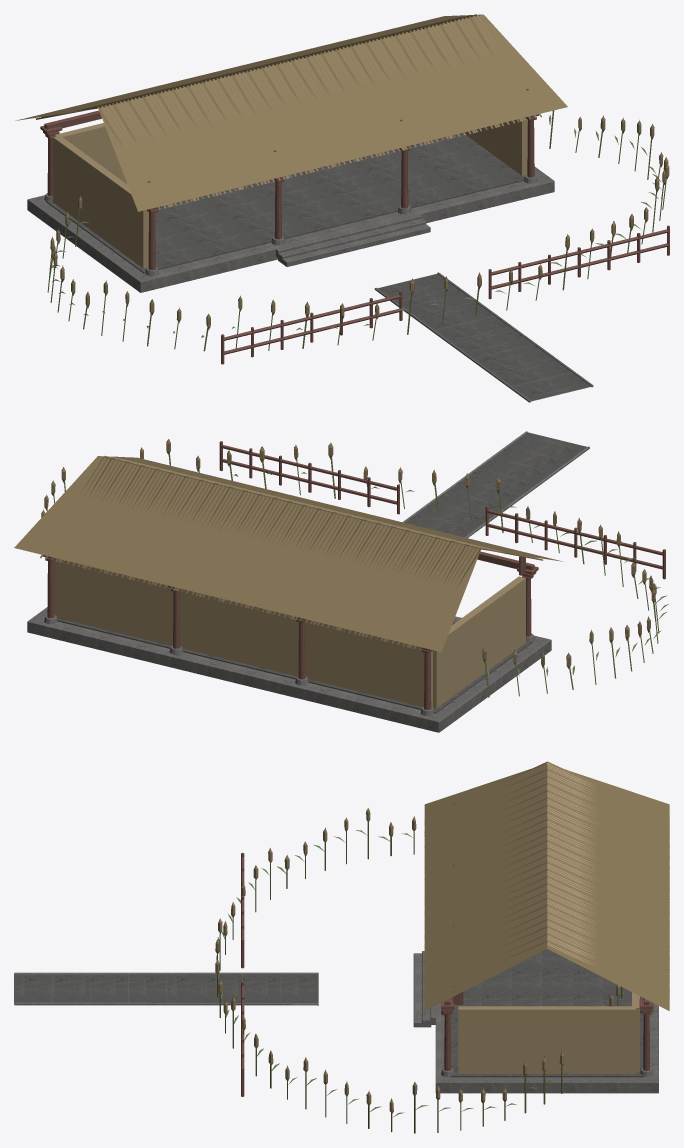
The model's file is reference-public_models_places_luxuean.glb.
3 renders of one model, top to bottom at view 1: azimuth 30°, elevation 25°; view 2: azimuth 150°, elevation 25°; view 3: azimuth 270°, elevation 25°, orthographic.
Parts seen in each view (by area): view 1: luxuean_thatch.001, luxuean_paving.001, luxuean_clay.001, luxuean_stone.001, luxuean_wood.001, luxuean_bamboo.001; view 2: luxuean_thatch.001, luxuean_clay.001, luxuean_stone.001, luxuean_paving.001, luxuean_wood.001, luxuean_bamboo.001; view 3: luxuean_thatch.001, luxuean_clay.001, luxuean_paving.001, luxuean_stone.001, luxuean_wood.001, luxuean_bamboo.001, luxuean_lightleaf.001.
Boxes of the visible parts, <box> form: luxuean_thatch.001: <box>15,14,669,330</box>; luxuean_paving.001: <box>46,132,590,400</box>; luxuean_clay.001: <box>41,14,541,268</box>; luxuean_stone.001: <box>27,166,593,402</box>; luxuean_wood.001: <box>40,88,669,364</box>; luxuean_bamboo.001: <box>47,110,666,351</box>; luxuean_thatch.001: <box>14,439,656,668</box>; luxuean_clay.001: <box>40,455,536,708</box>; luxuean_stone.001: <box>27,431,589,732</box>; luxuean_paving.001: <box>57,433,586,713</box>; luxuean_wood.001: <box>42,441,665,709</box>; luxuean_bamboo.001: <box>46,452,659,697</box>; luxuean_thatch.001: <box>215,761,669,1114</box>; luxuean_clay.001: <box>424,763,669,1073</box>; luxuean_paving.001: <box>14,949,643,1077</box>; luxuean_stone.001: <box>14,951,658,1093</box>; luxuean_wood.001: <box>241,803,653,1096</box>; luxuean_bamboo.001: <box>217,822,622,1133</box>; luxuean_lightleaf.001: <box>216,830,623,1117</box>.
Bounding box in the file's own units: 26.34 × 6.07 × 25.85.
Materials: 7 (3 with a texture image).
